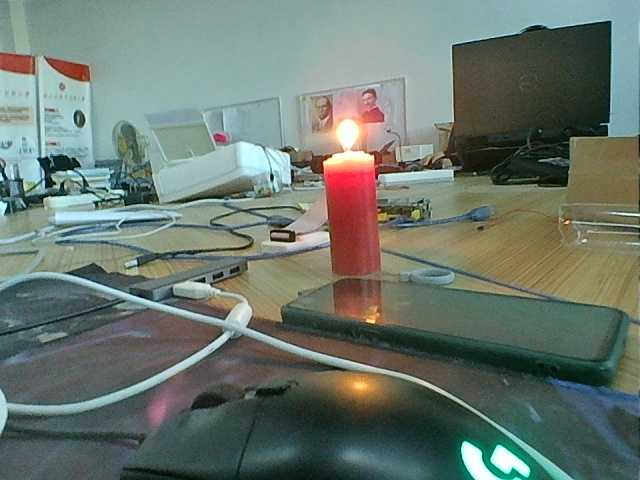candle: (315, 166, 395, 280)
fire: (326, 111, 371, 161)
